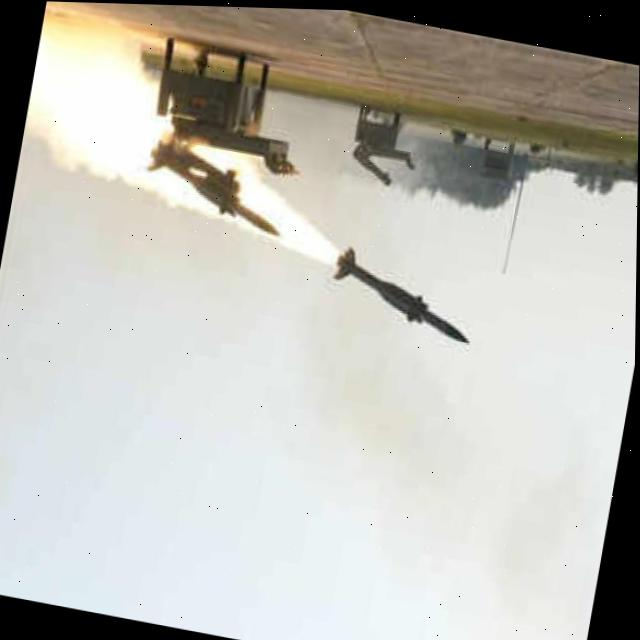missile: (315, 237, 485, 354), (219, 190, 288, 242)
